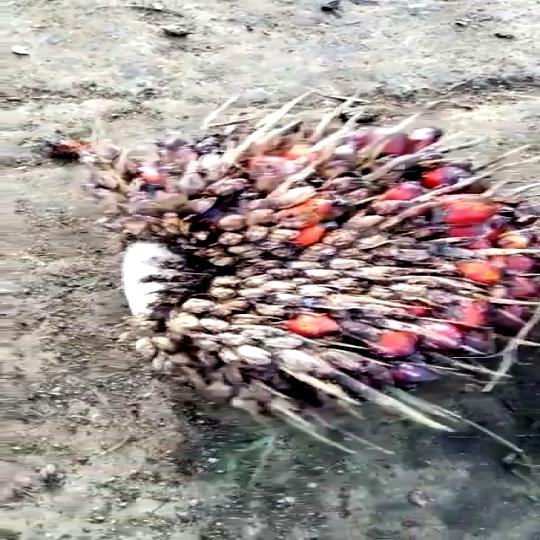masak: (54, 93, 540, 424)
